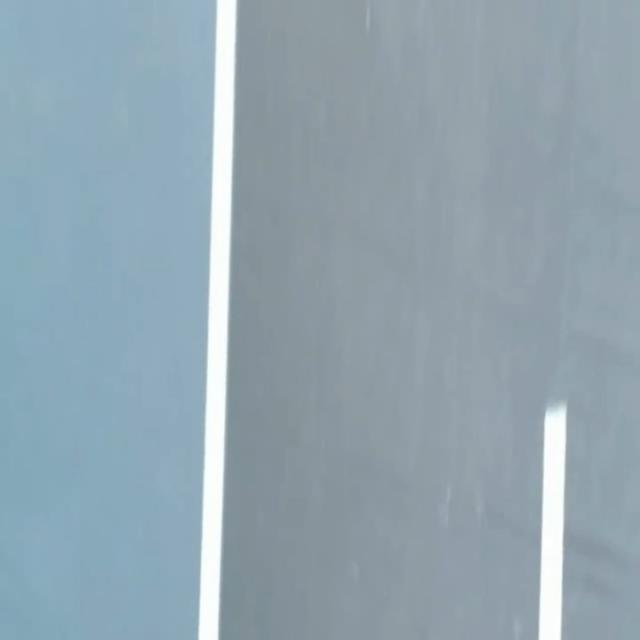center: (539, 403, 565, 639)
left: (198, 0, 236, 639)
